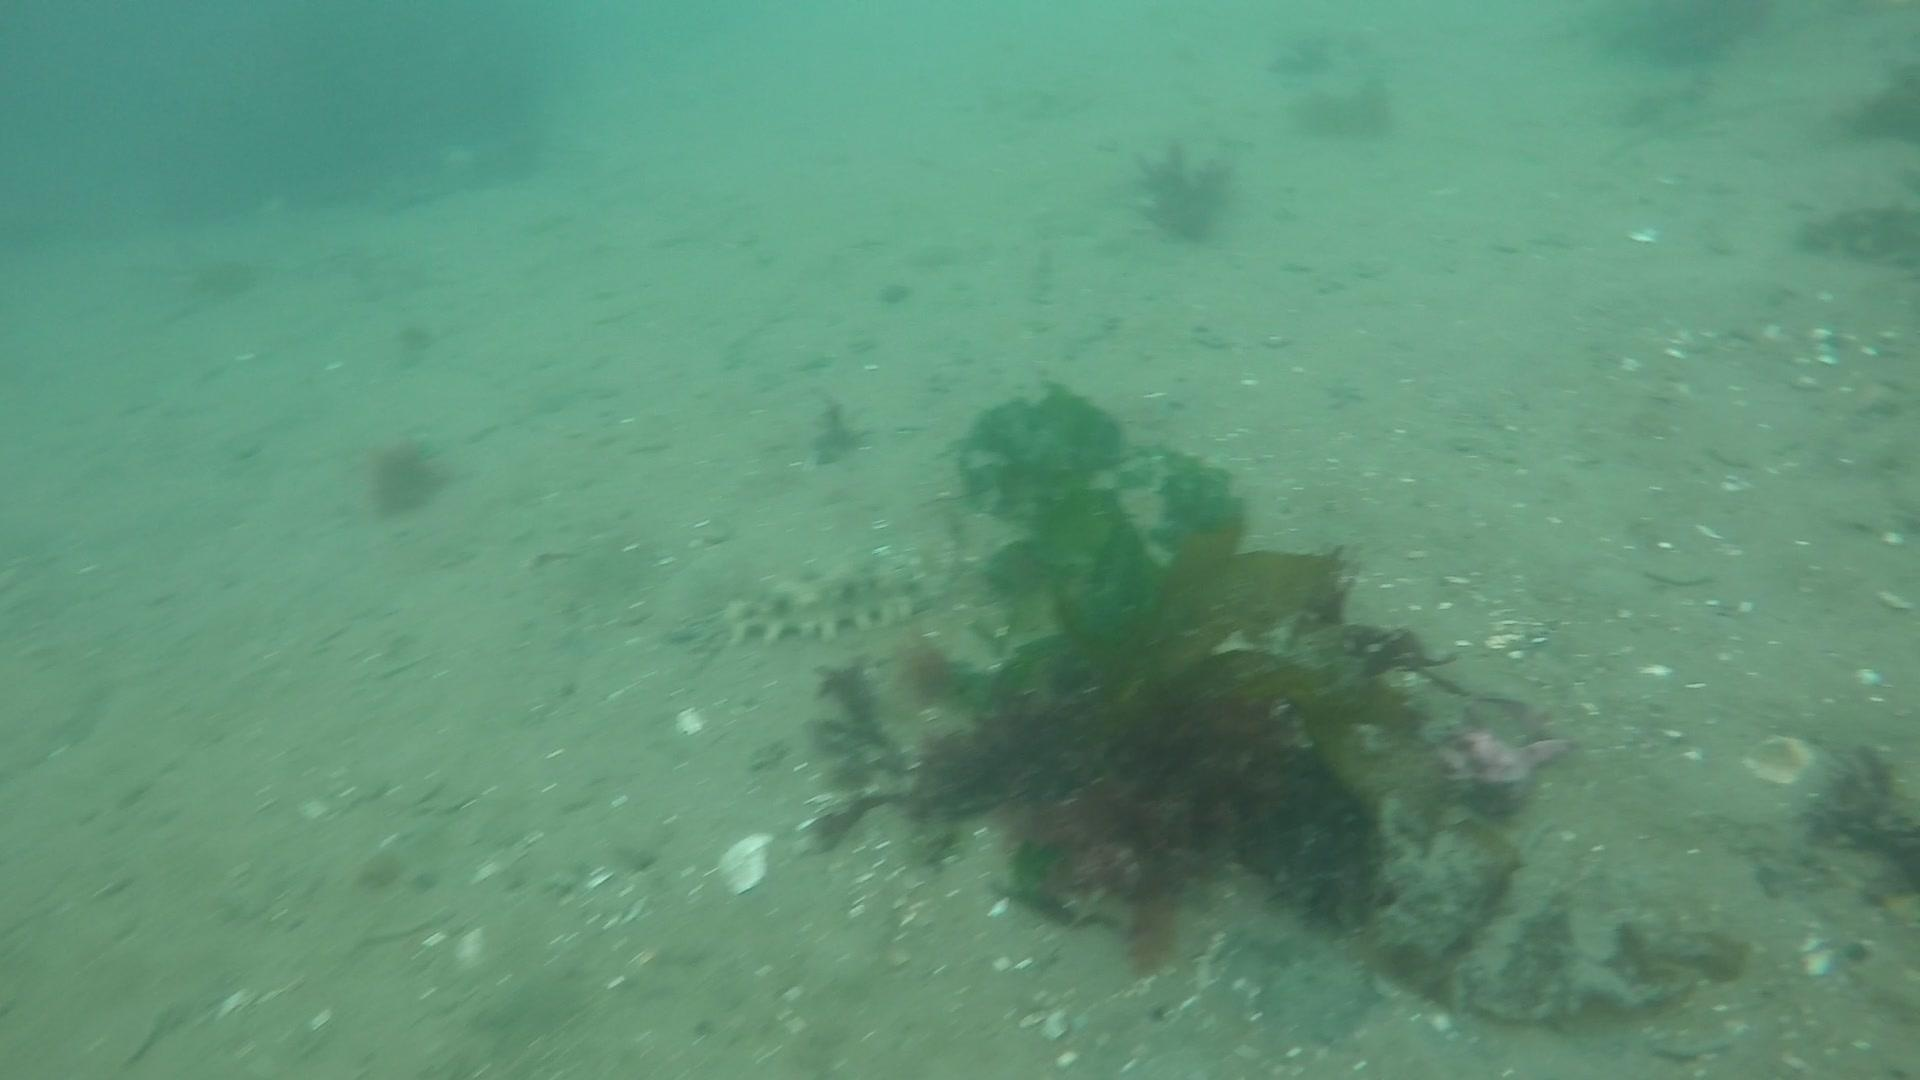holothurian: (709, 549, 944, 654)
